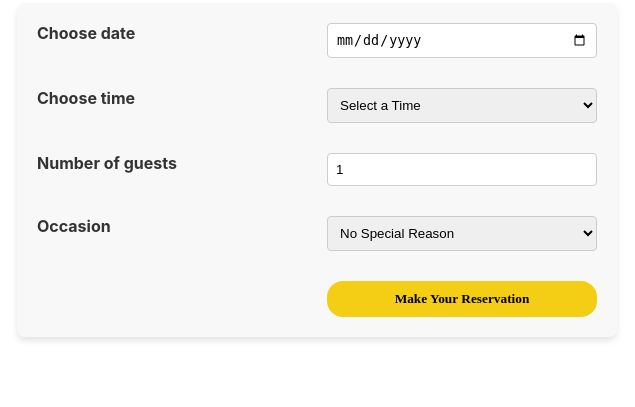
it: BookingForm JavaScript Validation › displays error message when date is in the past
Type "2022-01-01" into the date field labelled "Choose date" at (462, 41), box [327,23,597,58]
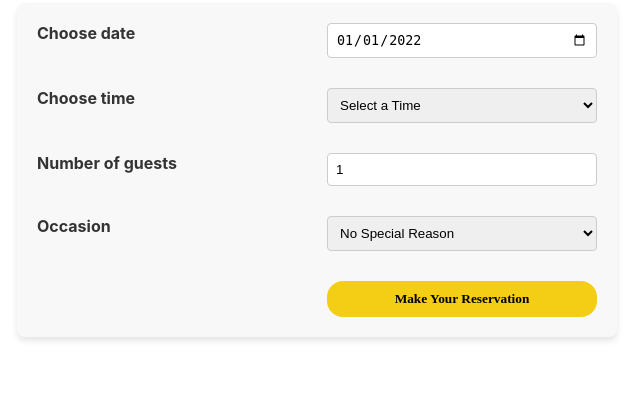
Leave the date field labelled "Choose date", box [327,23,597,58]
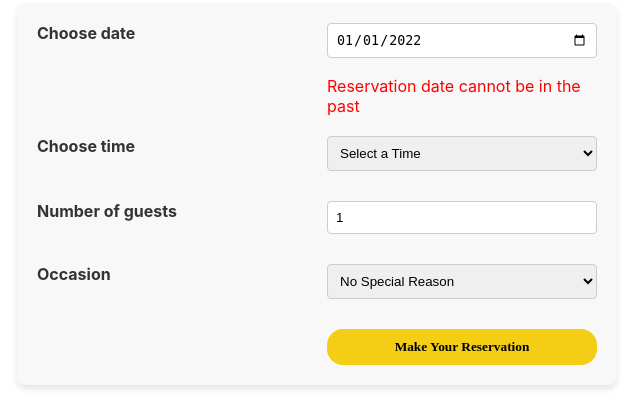
Result: the text "Reservation date cannot be in the past" is shown at [327,76,597,116]
